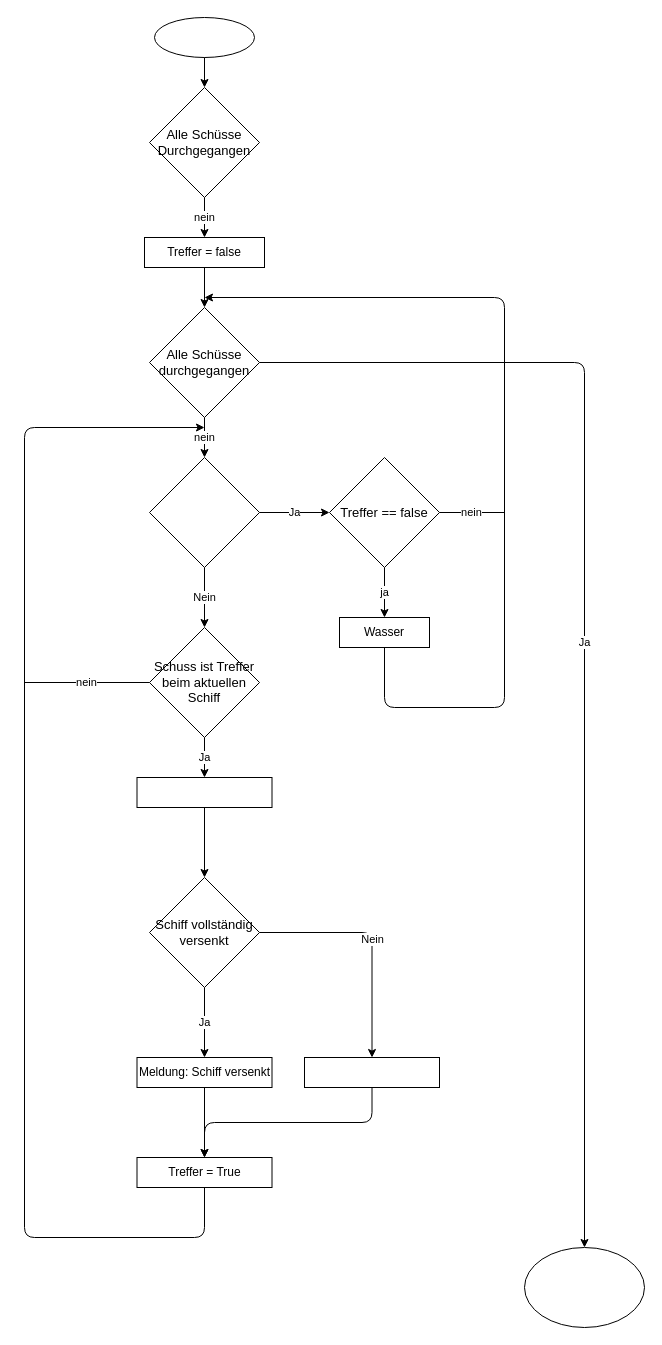
Some shapes in this 662 by 1345 pixel diagram are drawn without their labels. Here are the shapes that lost their labels. From the top down, the centre of each, then its label:
the point at 204,37: Start
the point at 204,512: Alle Schiffe durchgeangen
the point at 204,792: Position aus dem aktiven Schiff entfenren
the point at 372,1072: Meldung: Schiff getroffen
the point at 584,1287: Ende
